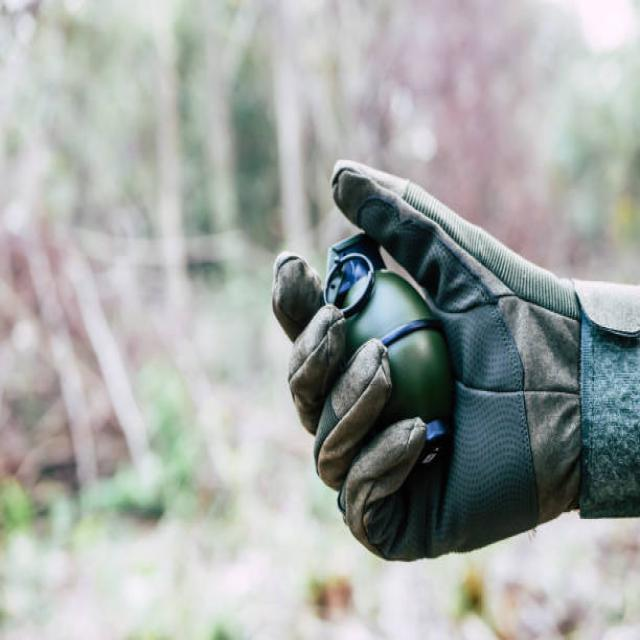grenade: (323, 228, 462, 474)
